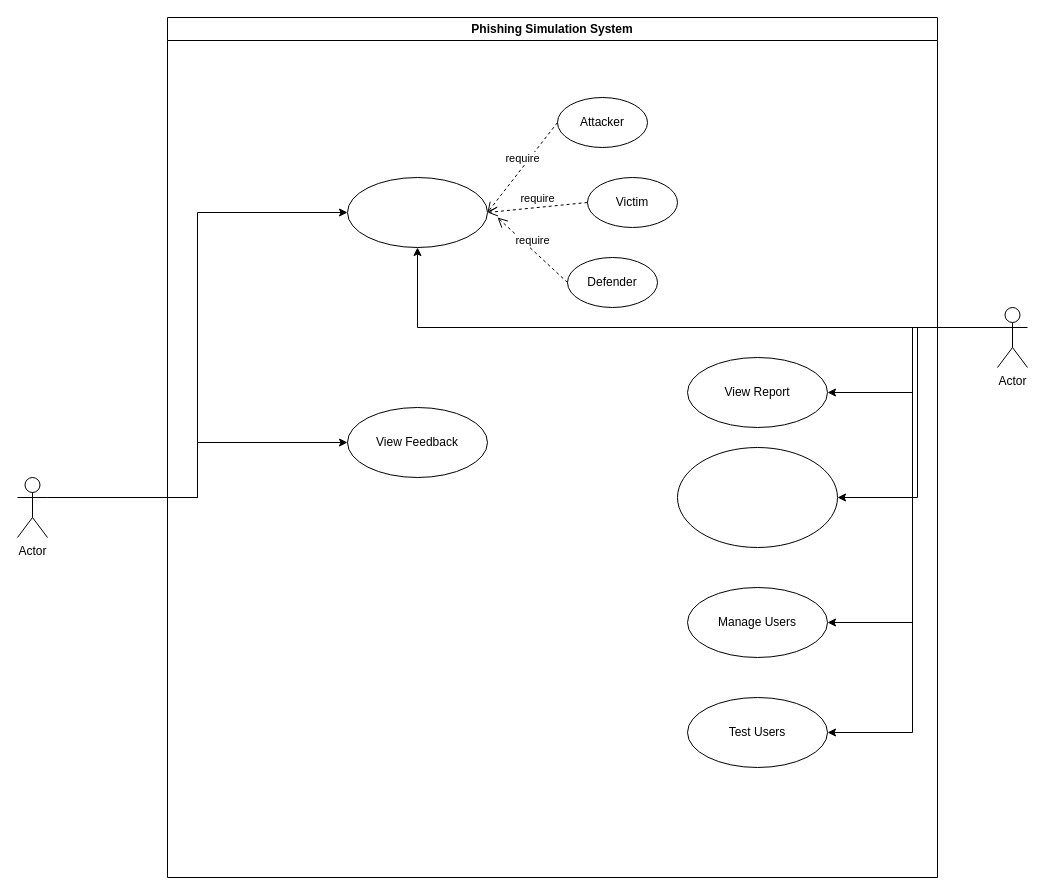
Some shapes in this 1045 by 895 pixel diagram are drawn without their labels. Here are the shapes that lost their labels. From the top down, the box of each, then its label:
(346, 176, 488, 248): Login/Register
(676, 446, 838, 548): Analyze Password Strength
